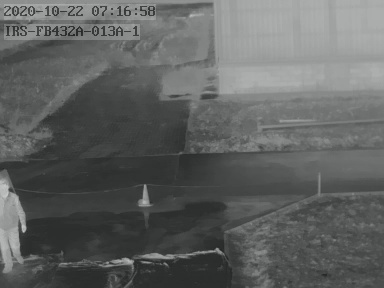person: (1, 180, 27, 270)
